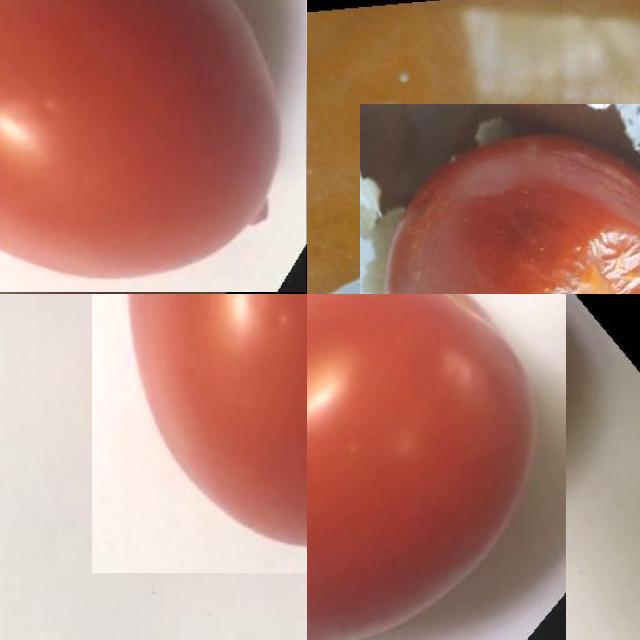Fresh Tomato: (0, 0, 306, 292), (307, 294, 565, 640), (92, 294, 307, 573)
Rotten Tomato: (359, 103, 640, 294)
